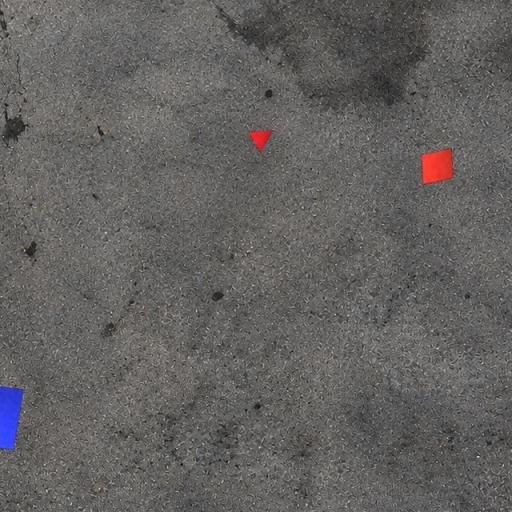RED_SQUARE: (421, 147, 454, 186)
